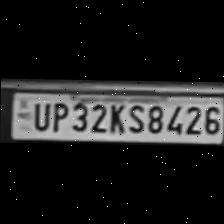2: (181, 101, 201, 134), (88, 98, 106, 131)
3: (68, 98, 88, 131)
4: (163, 101, 183, 133)
6: (201, 102, 221, 134)
8: (143, 100, 163, 133)
K: (105, 100, 125, 132)
P: (47, 99, 67, 131)
S: (125, 100, 145, 133)
U: (29, 99, 49, 128)
